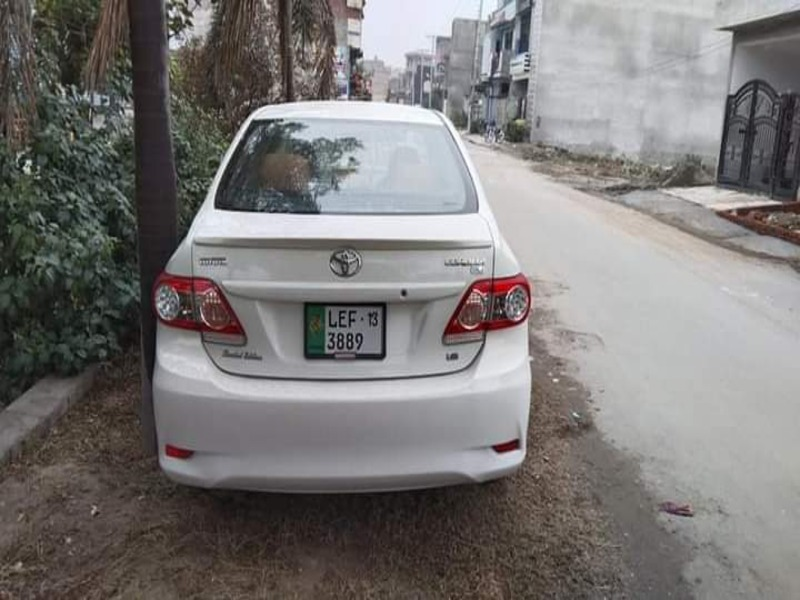License Plate: (300, 297, 391, 364)
